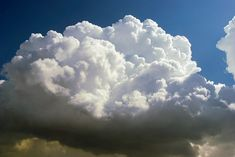Cumulus: (5, 8, 232, 148)
